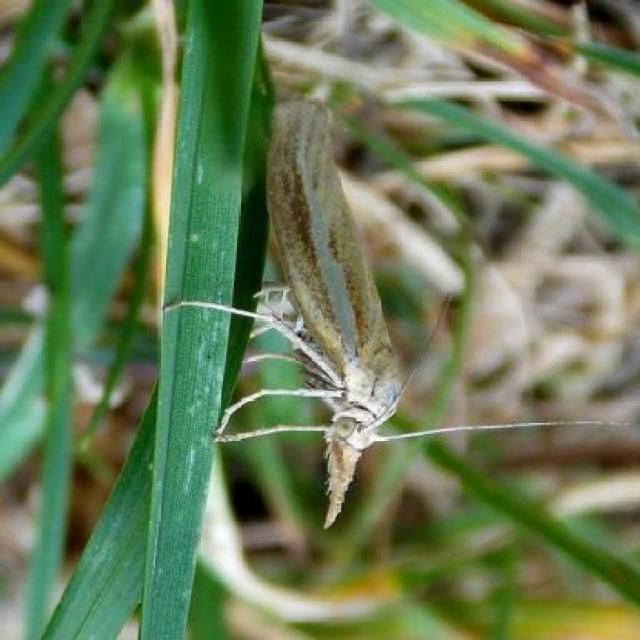stem-borer: (155, 98, 625, 531)
